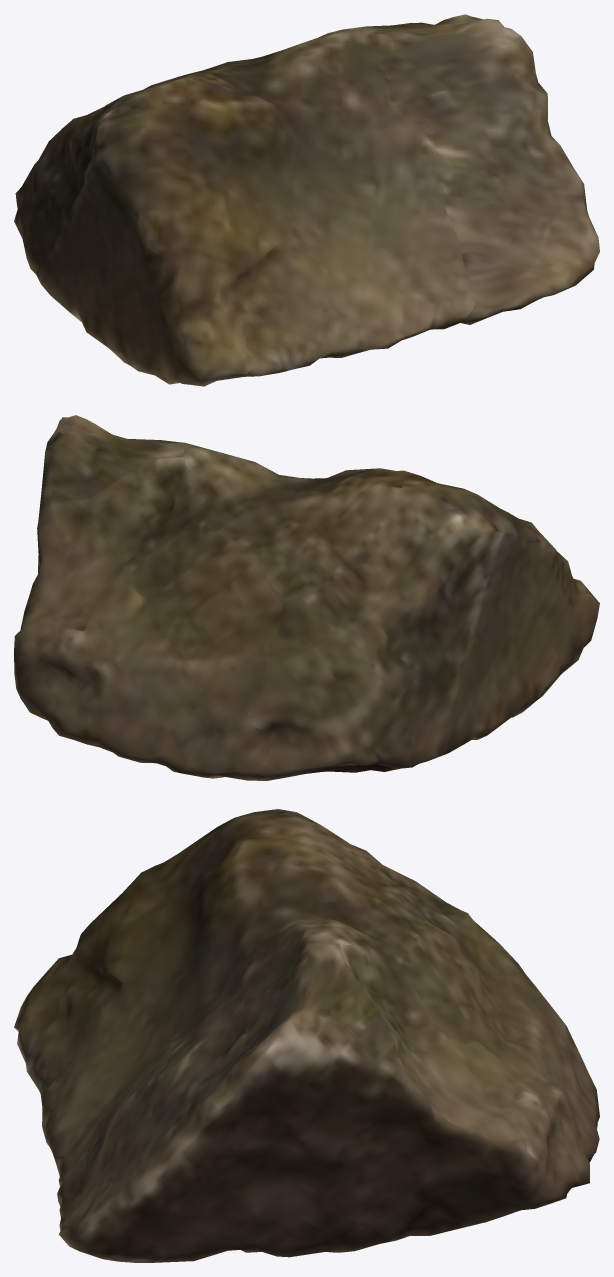
The picture shows the model from 3 angles, top to bottom: view 1: azimuth 30°, elevation 25°; view 2: azimuth 150°, elevation 25°; view 3: azimuth 270°, elevation 25°; orthographic projection. The views are drawn at different scales.
Parts seen in each view (by area): view 1: rock_moss_set_01__c_lod1; view 2: rock_moss_set_01__c_lod1; view 3: rock_moss_set_01__c_lod1.
Boxes of the visible parts, x1,y1,x2,y2 form: rock_moss_set_01__c_lod1: (14,14,599,386); rock_moss_set_01__c_lod1: (14,415,599,780); rock_moss_set_01__c_lod1: (14,809,599,1262).
Size of the model in its own units: 2.11 by 1.1 by 2.08.
Materials: 1 (1 with a texture image).
